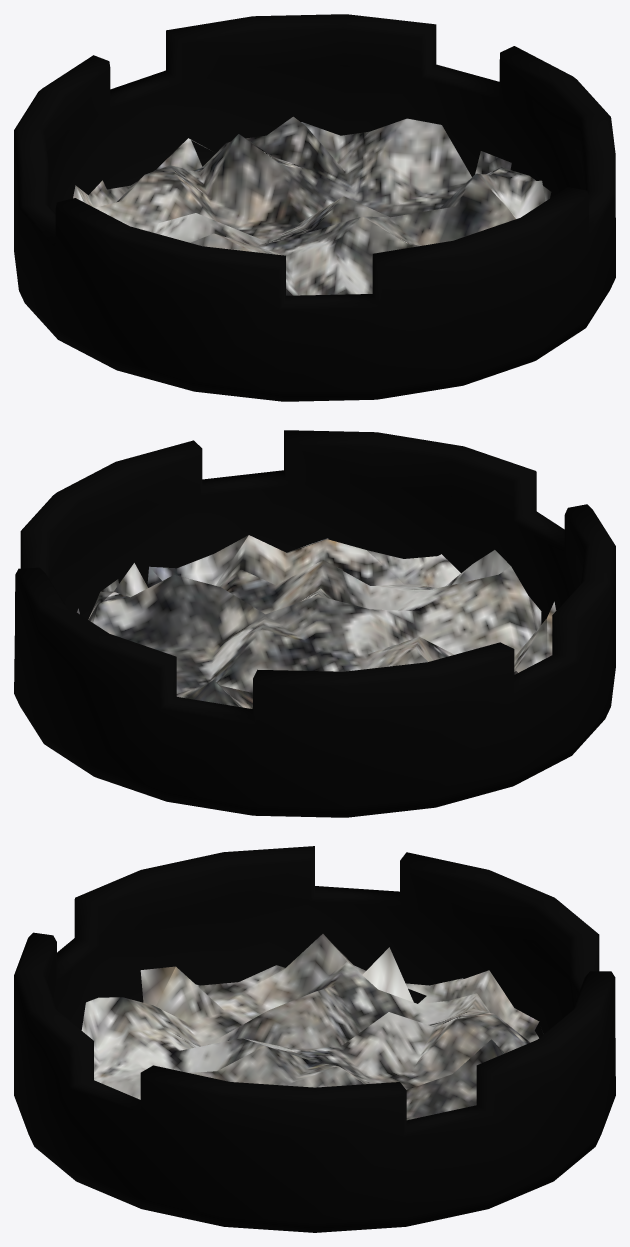
The model's file is d48cc208-a434-42b6-9386-45fda420d93e.glb.
The picture shows the model from 3 angles, top to bottom: view 1: azimuth 30°, elevation 25°; view 2: azimuth 150°, elevation 25°; view 3: azimuth 270°, elevation 25°; orthographic projection.
Parts seen in each view (by area): view 1: Ashtray, Ashtray.001; view 2: Ashtray, Ashtray.001; view 3: Ashtray, Ashtray.001.
Part boxes in pixels (x1,y1,x2,y2): Ashtray: [14, 14, 615, 401]; Ashtray.001: [73, 116, 551, 295]; Ashtray: [14, 430, 615, 817]; Ashtray.001: [77, 535, 556, 708]; Ashtray: [14, 846, 615, 1232]; Ashtray.001: [81, 934, 543, 1120].
Size of the model in its own units: 2 by 0.5213 by 2.
1 material, 1 textured.
